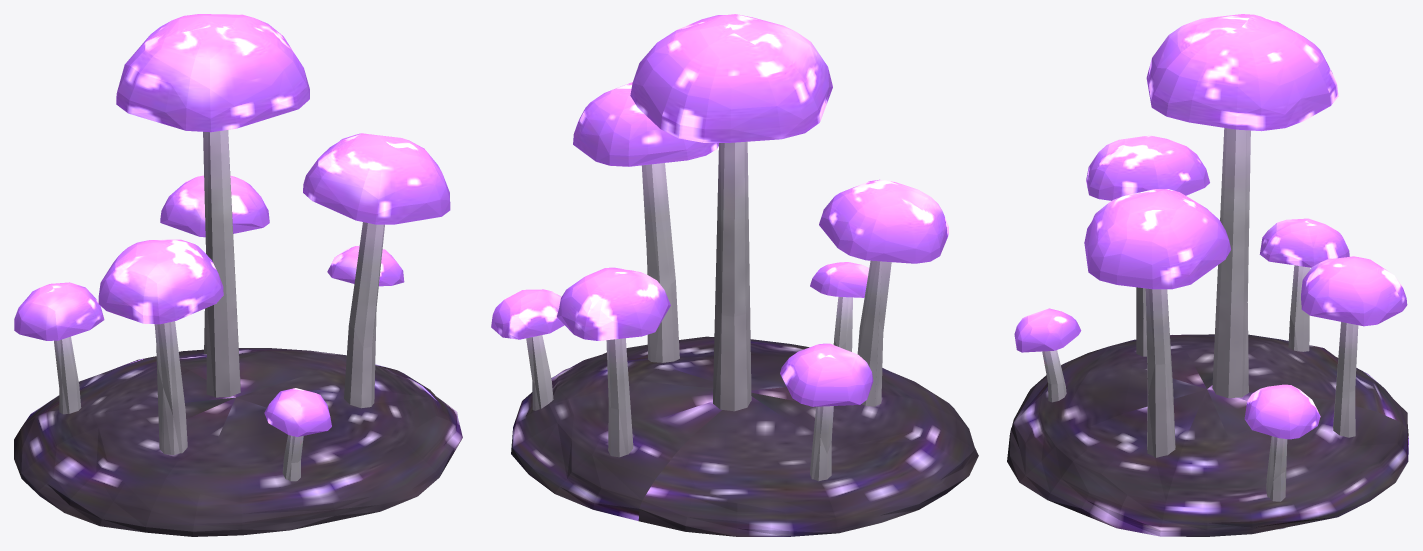
File: fungo_roxo_v01.glb
3 views of the same model, side by side, from view 1: azimuth 30°, elevation 25°; view 2: azimuth 150°, elevation 25°; view 3: azimuth 270°, elevation 25° (orthographic). The views are drawn at different scales.
Visible parts, largest first — view 1: fungo_roxo; view 2: fungo_roxo; view 3: fungo_roxo.
Boxes of the visible parts, <box> form: fungo_roxo: <box>14,14,462,536</box>; fungo_roxo: <box>491,14,978,536</box>; fungo_roxo: <box>1007,14,1408,536</box>.
Bounding box in the file's own units: 0.4039 × 0.4047 × 0.3549.
Materials: 1 (1 with a texture image).
